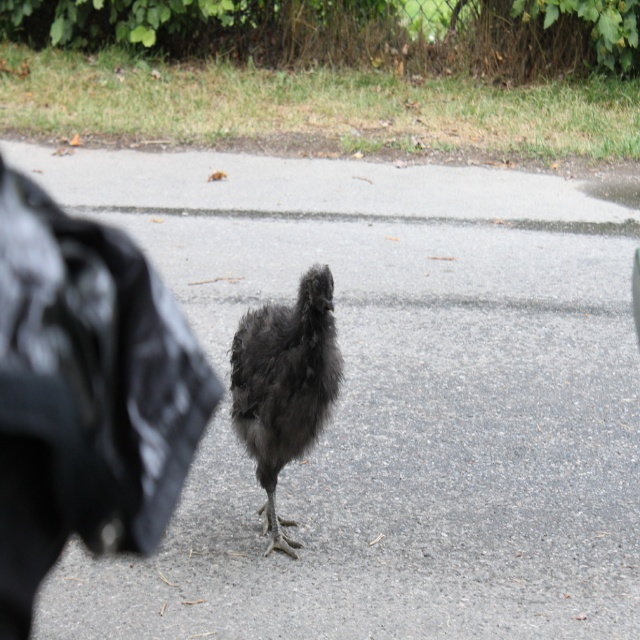Chicken: (230, 255, 344, 556)
